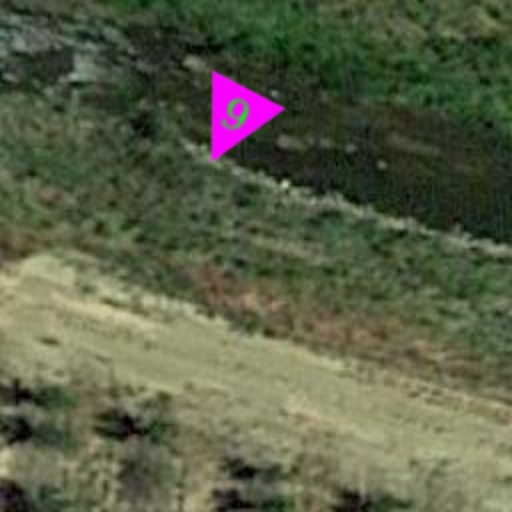triangle: (174, 70, 286, 182)
